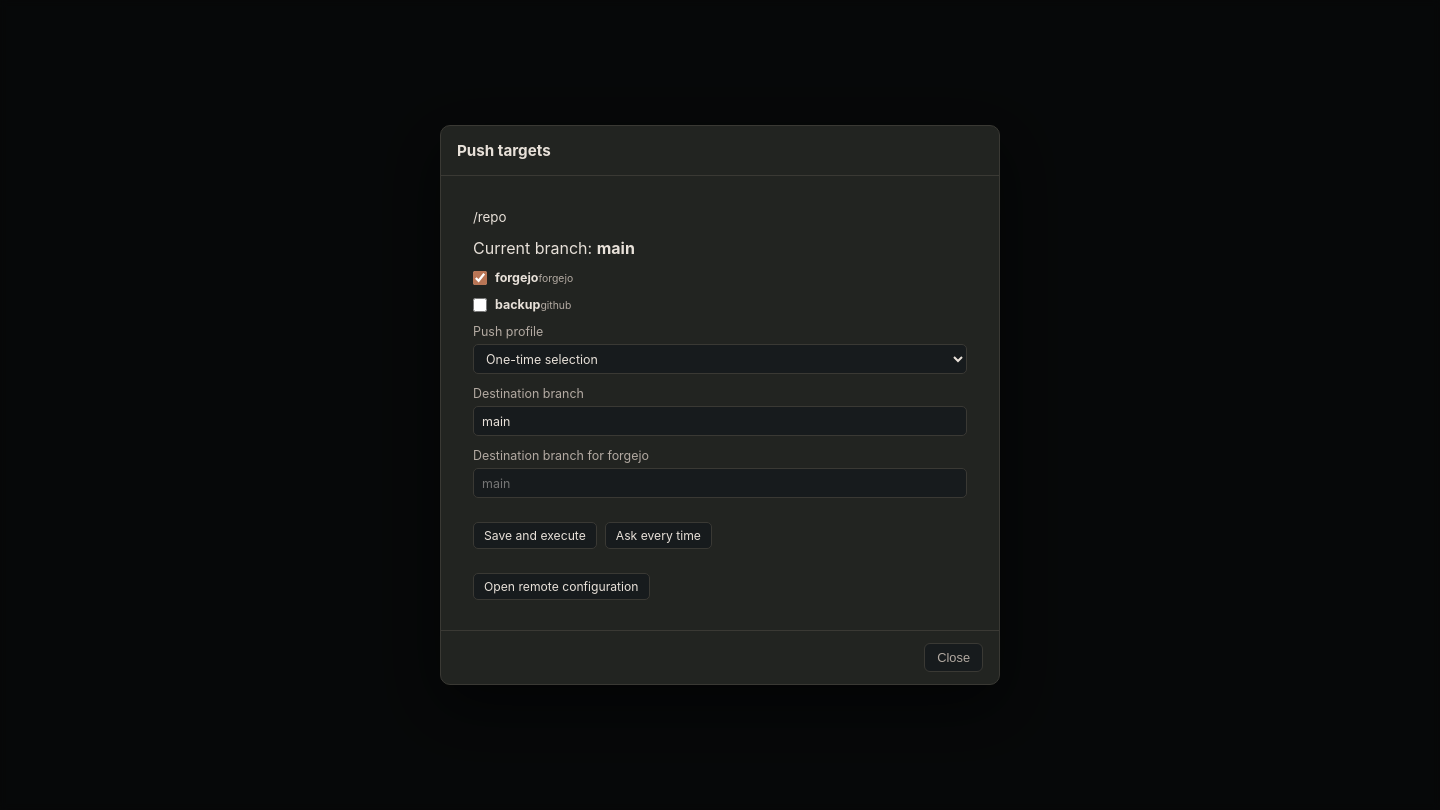
Test: remote transfer host and selection UI › keeps ordinary pushes free of tag controls while explicit tag pushes show them
Expected: the text "Explicitly select tags" is not shown
What coordinates should you click on to do the following:
click the button "Close"
I would click on:
 (954, 658)
Its box is [924, 643, 983, 672].
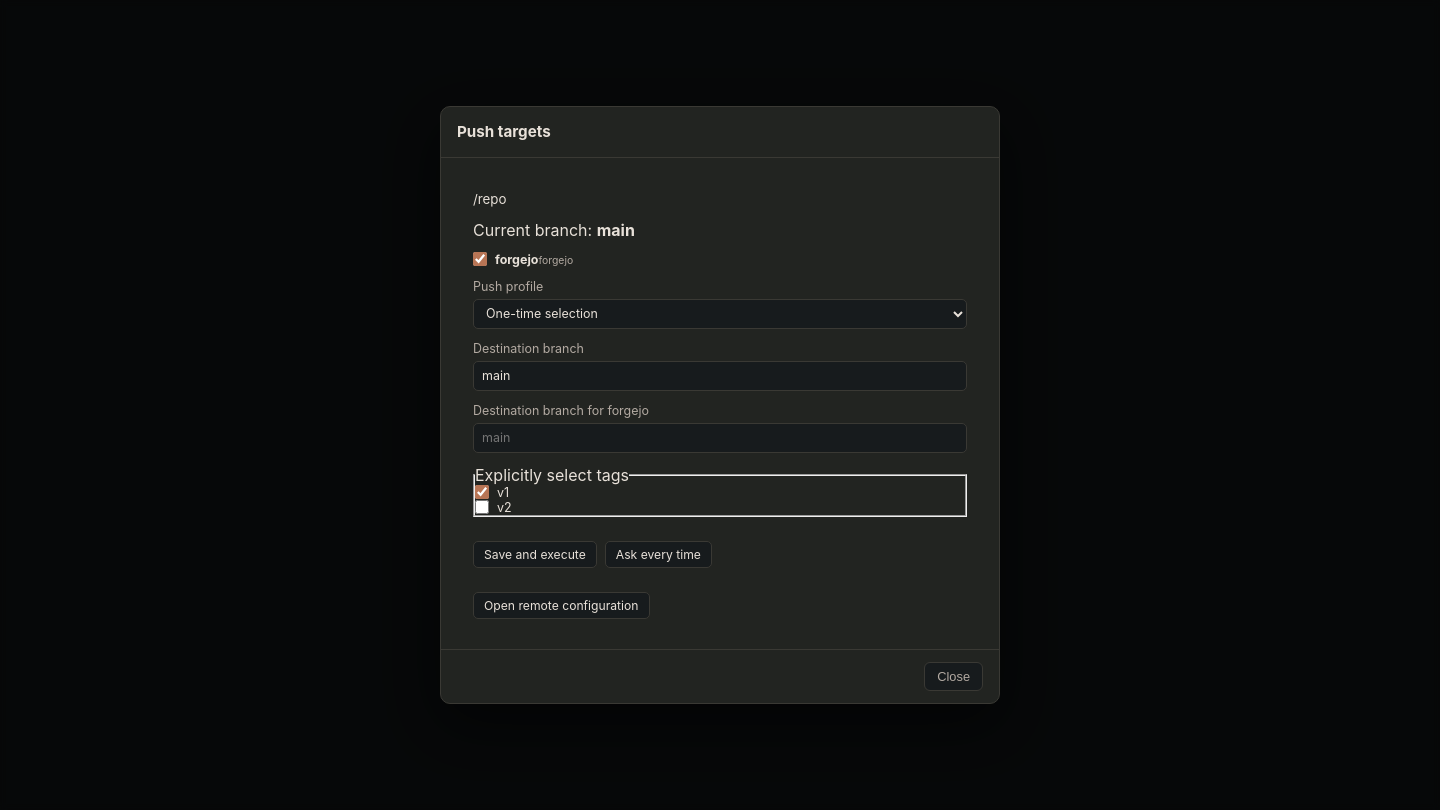
Expected: the checkbox labelled "v1" is checked, [475, 485, 489, 499]
Now the text "Explicitly select tags" is shown, box [475, 465, 629, 485]
